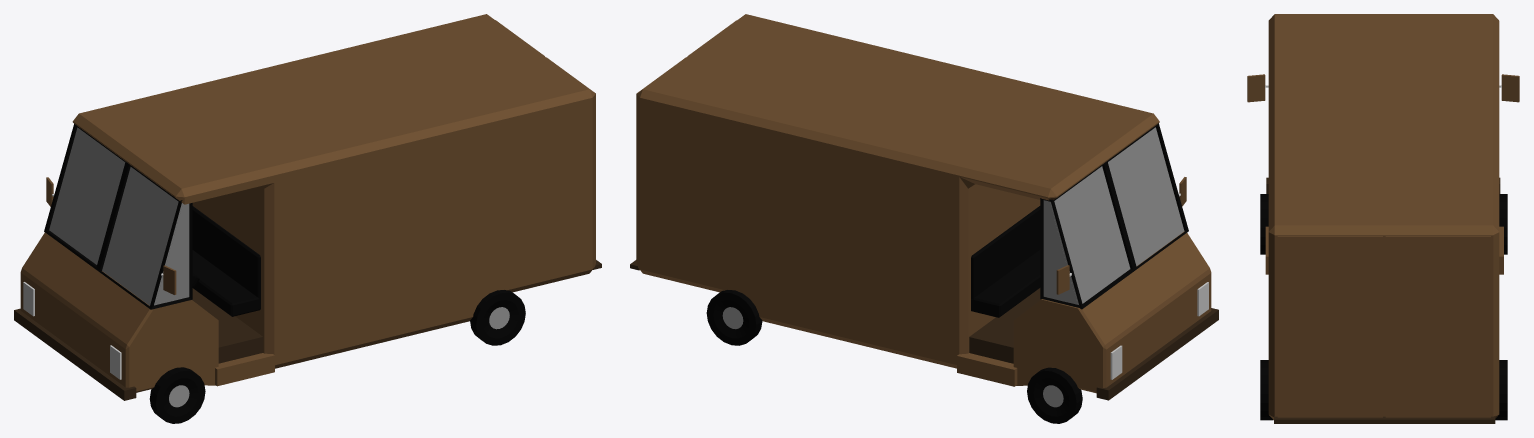
The model's file is DeliveryTruckColoured.fbx.
The picture shows the model from 3 angles, left to right: view 1: azimuth 30°, elevation 25°; view 2: azimuth 150°, elevation 25°; view 3: azimuth 270°, elevation 25°; orthographic projection. The views are drawn at different scales.
Parts seen in each view (by area): view 1: Cube, Cube.004, Cube.005, Cube.012, BackWheel.002, BackWheel.005, Cube.011, Cube.010, Cube.007, Cube.009; view 2: Cube, Cube.004, Cube.005, Cube.012, BackWheel.001, BackWheel.000, Cube.011, Cube.010, Cube.007, Cube.009; view 3: Cube, Cube.003, Cube.002, Cube.008, BackWheel.000, BackWheel.005, Cube.017, Cube.014, BackWheel.002, Cube.009, BackWheel.001.
Part boxes in pixels (x1=…): Cube: x1=72, y1=14, x2=595, y2=368; Cube.004: x1=44, y1=124, x2=192, y2=309; Cube.005: x1=20, y1=232, x2=218, y2=392; Cube.012: x1=192, y1=206, x2=260, y2=298; BackWheel.002: x1=149, y1=367, x2=205, y2=423; BackWheel.005: x1=470, y1=290, x2=525, y2=345; Cube.011: x1=192, y1=250, x2=260, y2=316; Cube.010: x1=192, y1=288, x2=262, y2=363; Cube.007: x1=14, y1=308, x2=136, y2=400; Cube.009: x1=215, y1=353, x2=274, y2=386; Cube: x1=637, y1=14, x2=1159, y2=368; Cube.004: x1=1040, y1=123, x2=1188, y2=309; Cube.005: x1=1013, y1=231, x2=1211, y2=393; Cube.012: x1=971, y1=206, x2=1040, y2=299; BackWheel.001: x1=1027, y1=367, x2=1082, y2=423; BackWheel.000: x1=706, y1=290, x2=762, y2=345; Cube.011: x1=971, y1=250, x2=1040, y2=317; Cube.010: x1=969, y1=288, x2=1040, y2=363; Cube.007: x1=1096, y1=308, x2=1218, y2=400; Cube.009: x1=957, y1=353, x2=1017, y2=386; Cube: x1=1268, y1=14, x2=1499, y2=419; Cube.003: x1=1385, y1=236, x2=1490, y2=417; Cube.002: x1=1277, y1=236, x2=1382, y2=417; Cube.008: x1=1274, y1=416, x2=1495, y2=423; BackWheel.000: x1=1495, y1=360, x2=1507, y2=420; BackWheel.005: x1=1260, y1=360, x2=1272, y2=420; Cube.017: x1=1501, y1=74, x2=1519, y2=102; Cube.014: x1=1247, y1=74, x2=1265, y2=102; BackWheel.002: x1=1260, y1=194, x2=1268, y2=254; Cube.009: x1=1265, y1=226, x2=1503, y2=274; BackWheel.001: x1=1499, y1=194, x2=1507, y2=254.
Bounding box in the file's own units: 823 × 372 × 380.
